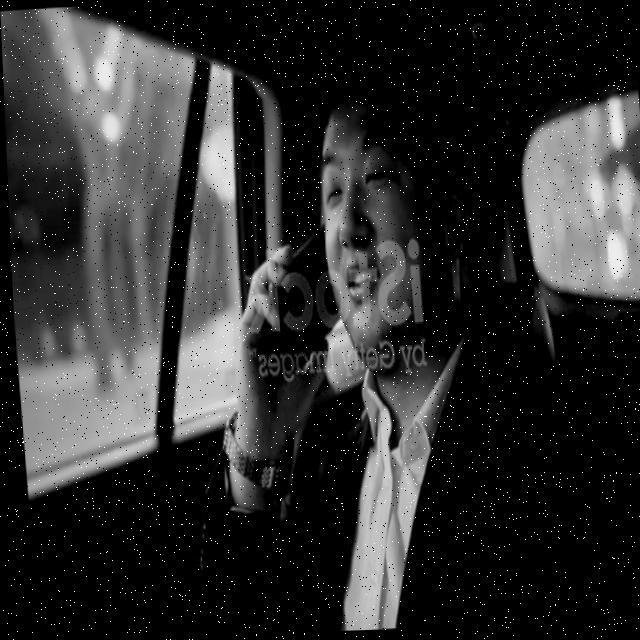PhoneCall: (262, 232, 336, 378)
